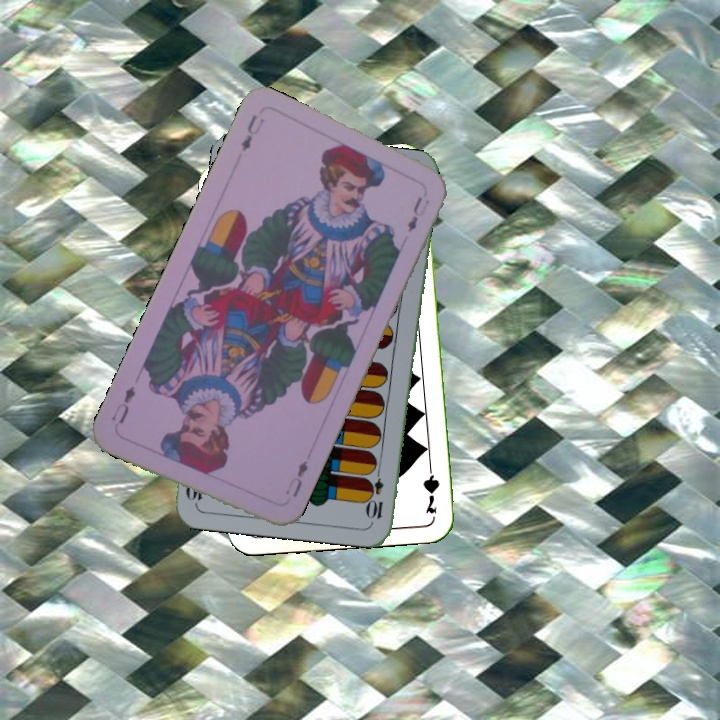E10: (366, 462, 387, 521)
EU: (281, 456, 311, 500), (237, 111, 267, 154)
G7: (419, 457, 442, 516)
